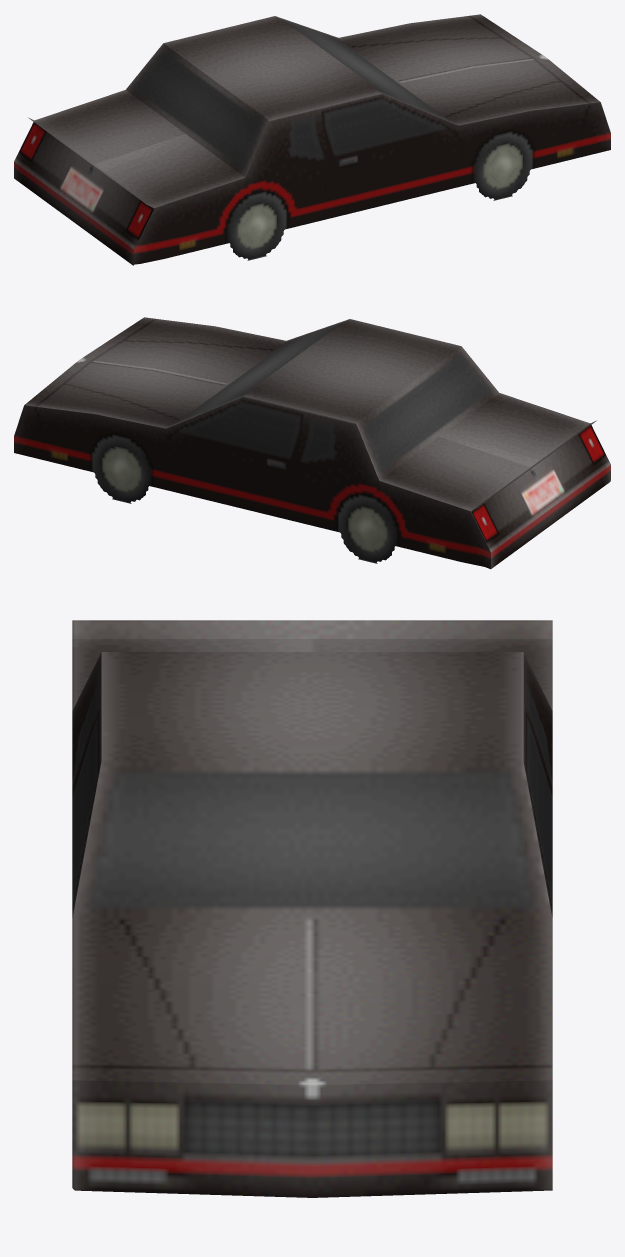
The model's file is carlo2.obj.
3 views of the same model, one above another, from view 1: azimuth 30°, elevation 25°; view 2: azimuth 150°, elevation 25°; view 3: azimuth 270°, elevation 25° (orthographic). The views are drawn at different scales.
Parts seen in each view (by area): view 1: PRLD_NTM; view 2: PRLD_NTM; view 3: PRLD_NTM.
Boxes of the visible parts, left/top/right/bottom form: PRLD_NTM: left=14, top=14, right=610, bottom=265; PRLD_NTM: left=14, top=317, right=610, bottom=569; PRLD_NTM: left=72, top=620, right=552, bottom=1197.
Size of the model in its own units: 191 by 48.3 by 82.
